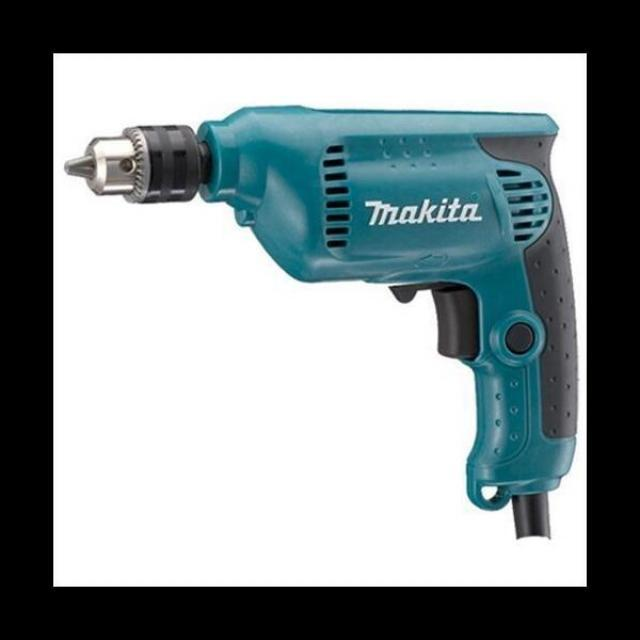drill: (62, 105, 582, 542)
